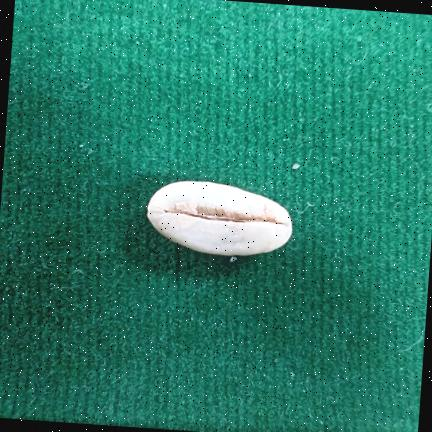immature: (147, 181, 291, 255)
